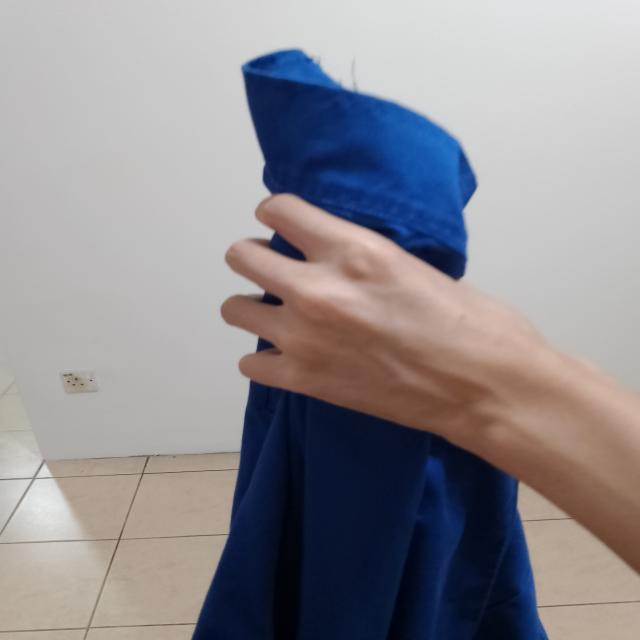person_without_labcoat: (196, 51, 640, 640)
